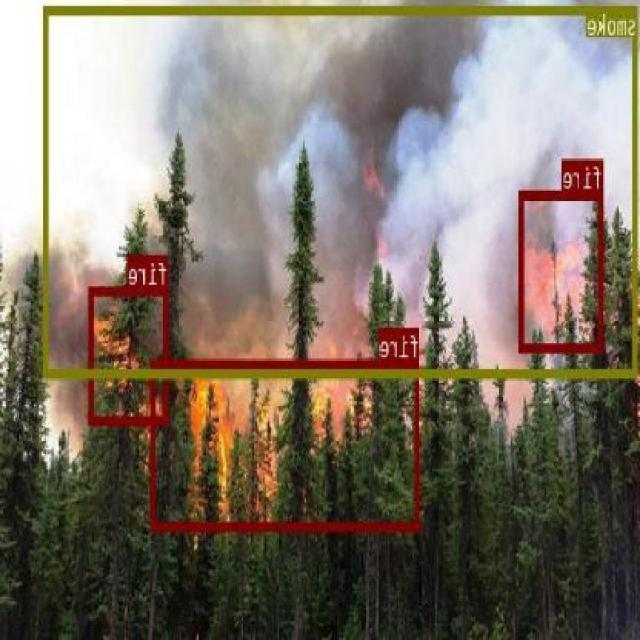Fire: (150, 358, 422, 530), (521, 191, 604, 351), (90, 286, 170, 423)
Smoke: (43, 5, 640, 378)
